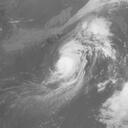cyclone: (50, 43, 88, 88)
